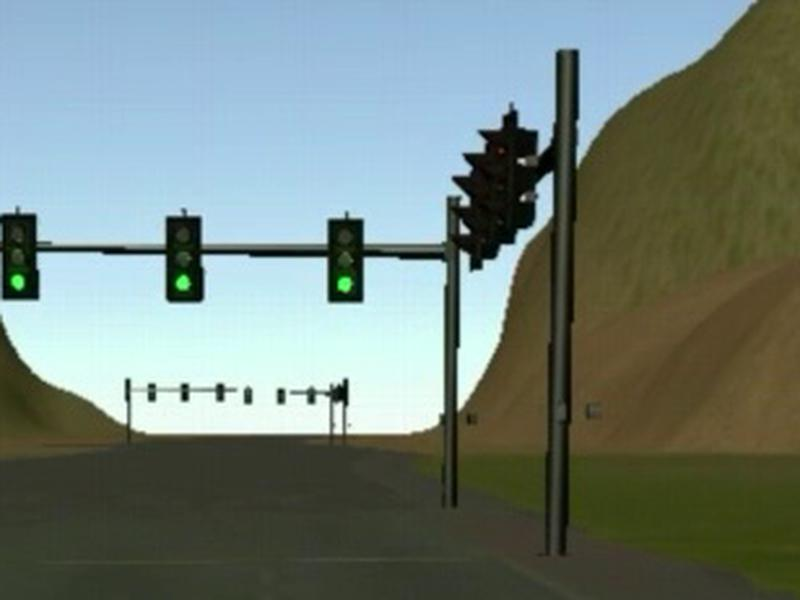Green: (166, 216, 203, 302), (327, 218, 364, 302), (2, 213, 37, 300)
